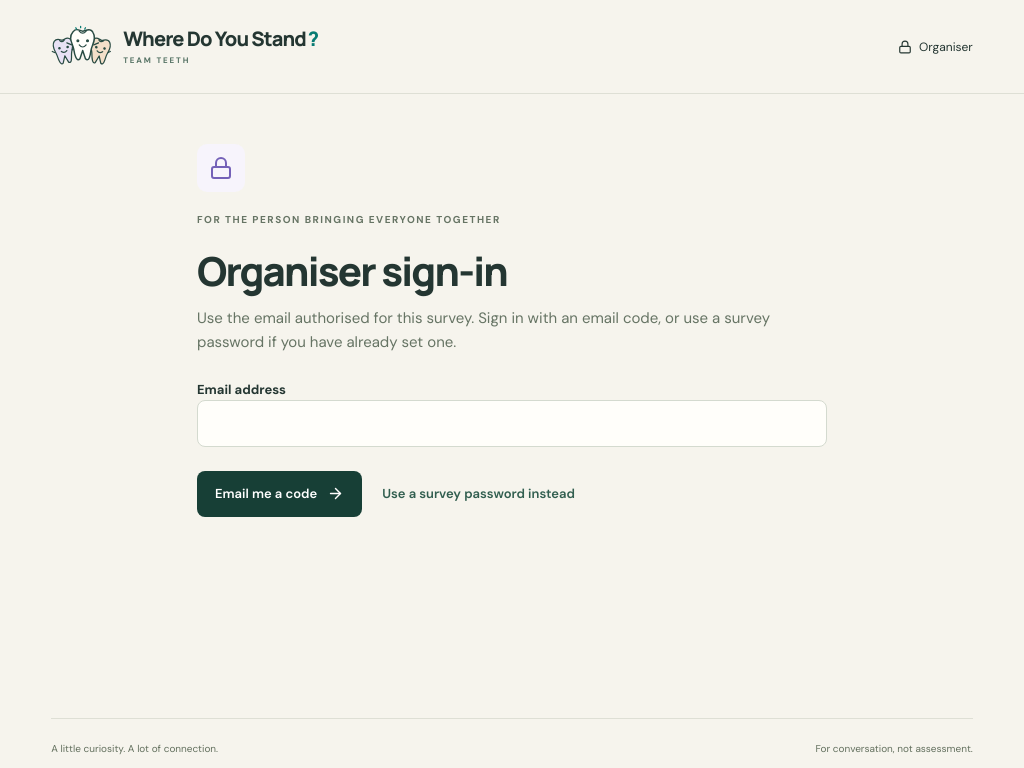
Test: signs in using a survey password without requesting an email
Click the button "Use a survey password instead": coordinates (479, 494) [382, 477, 575, 511]
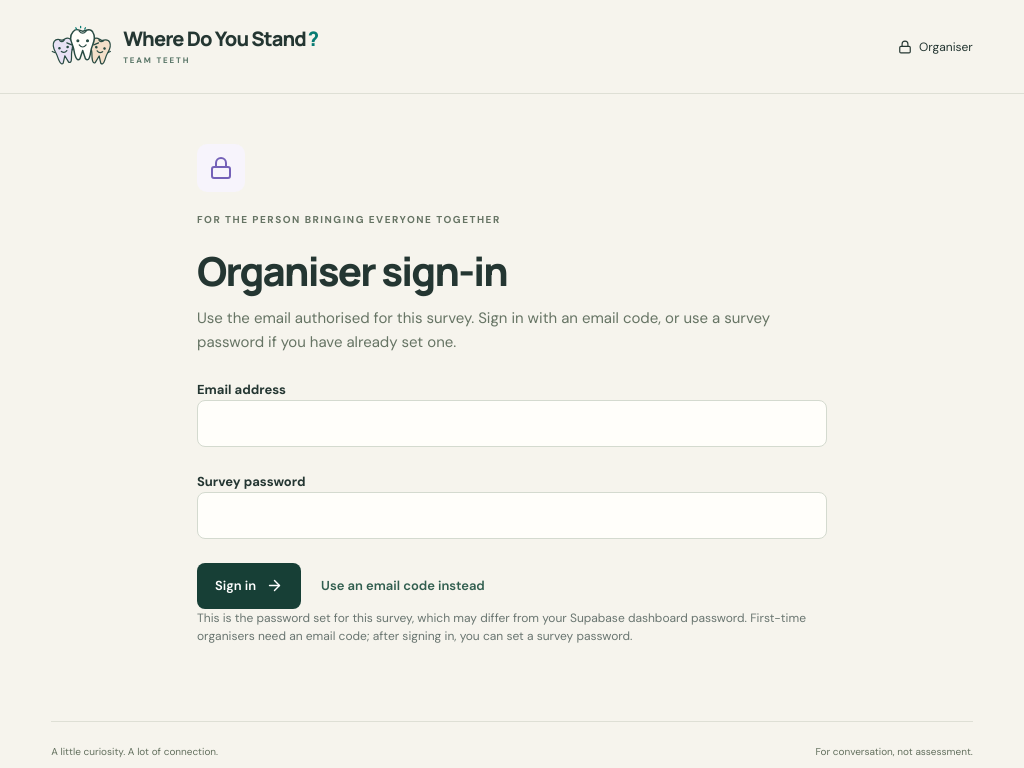
In the field labelled "Email address": coordinates (512, 423) [197, 400, 827, 447], type "QA@example.test"
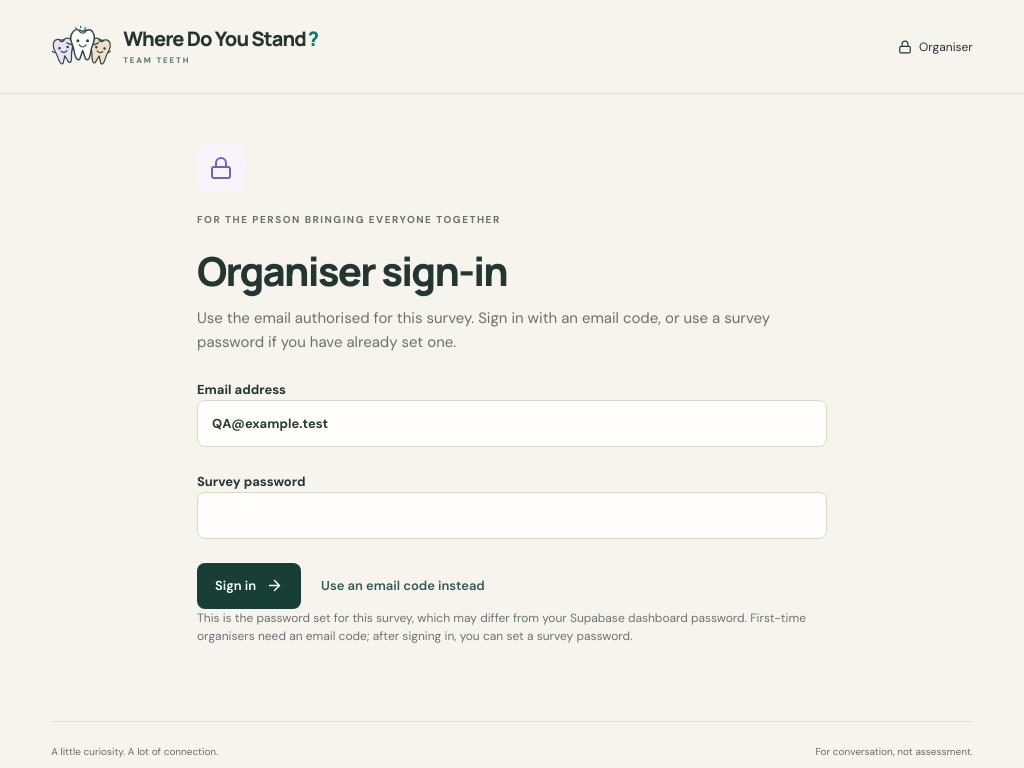
In the password field labelled "Survey password": coordinates (512, 515) [197, 492, 827, 539], type "fictional-test-password"
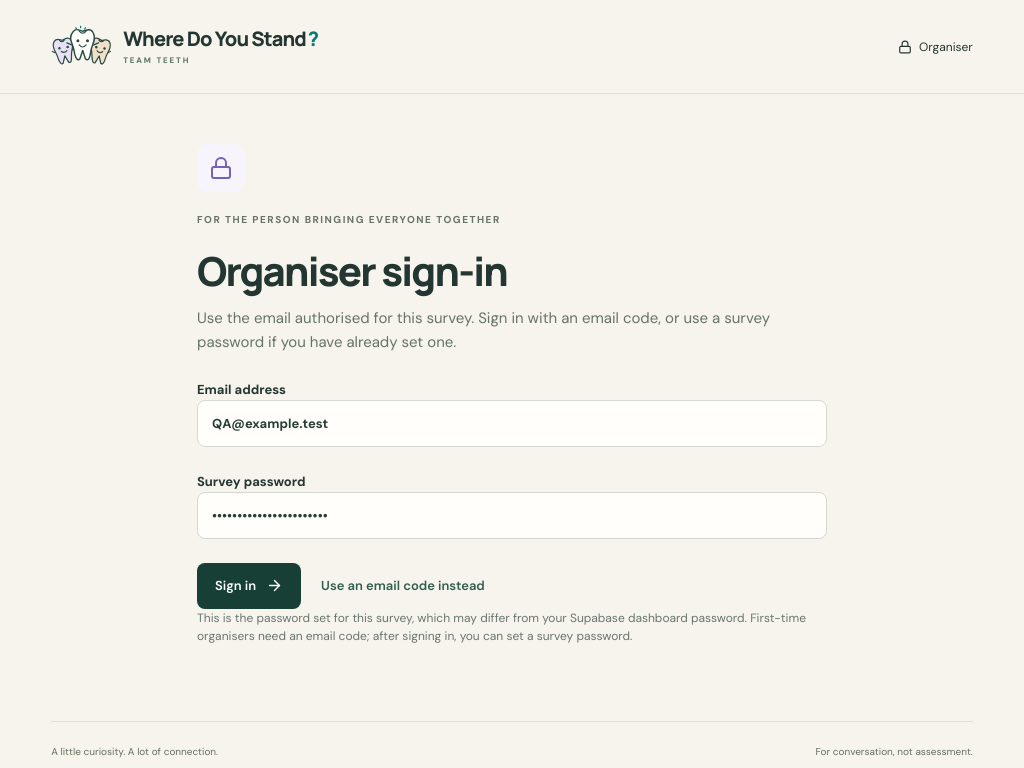
Click the button "Sign in": coordinates (249, 586) [197, 563, 301, 609]
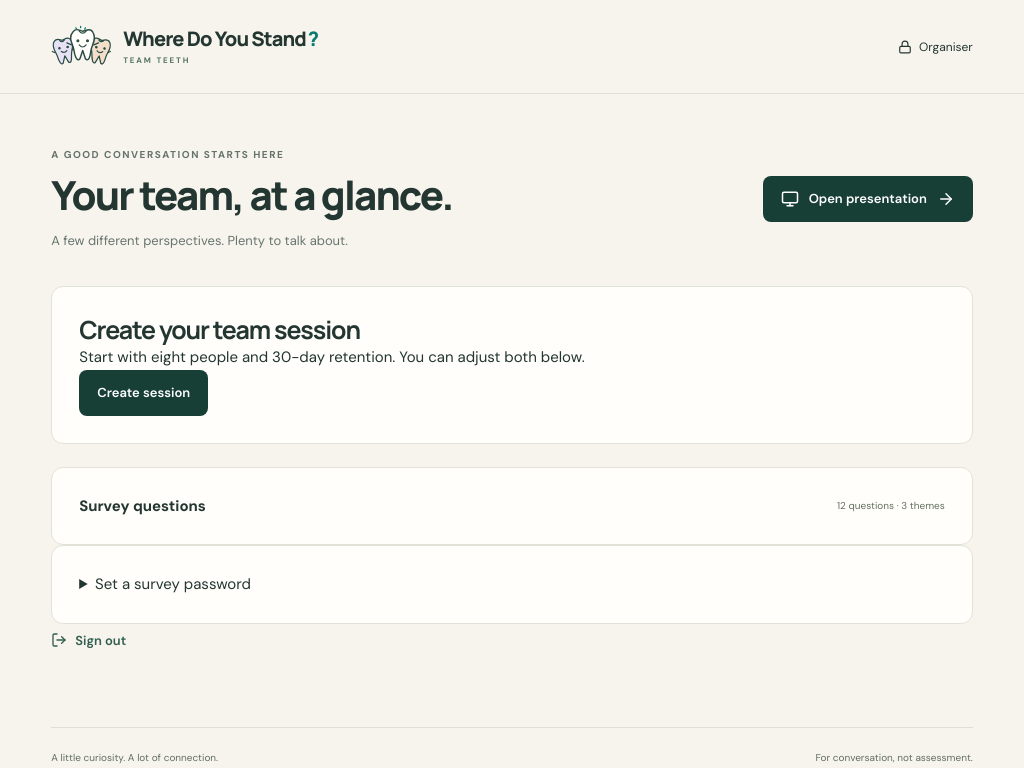
Expected: the heading "Your team, at a glance." is shown, [51, 172, 452, 218]
